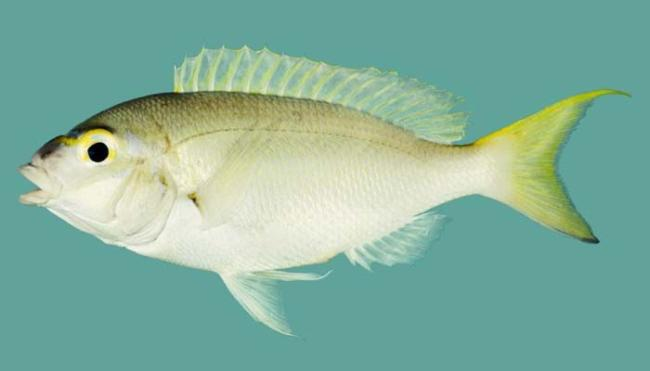fish: (16, 42, 634, 336)
